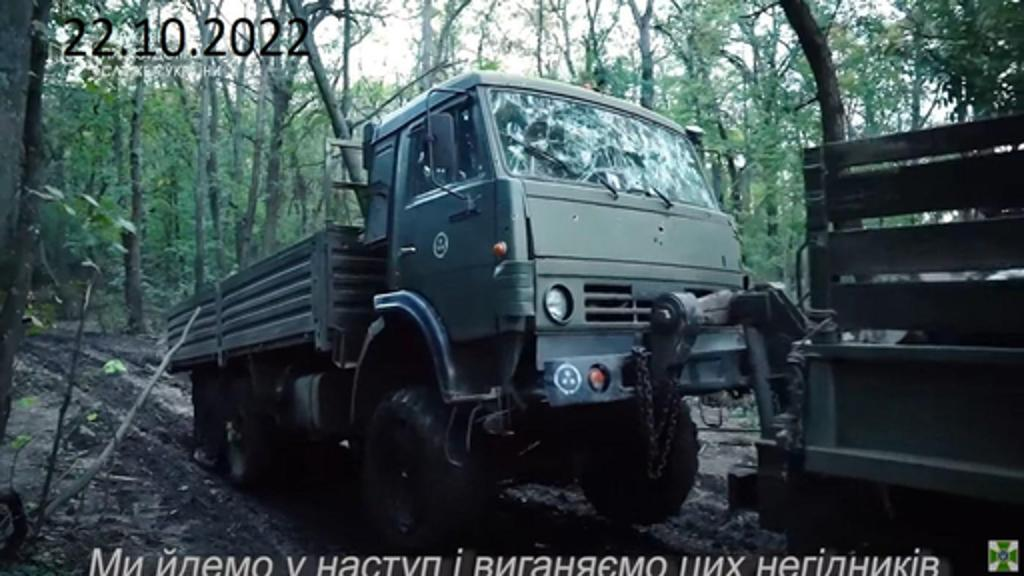TRUCK: (162, 78, 752, 546)
